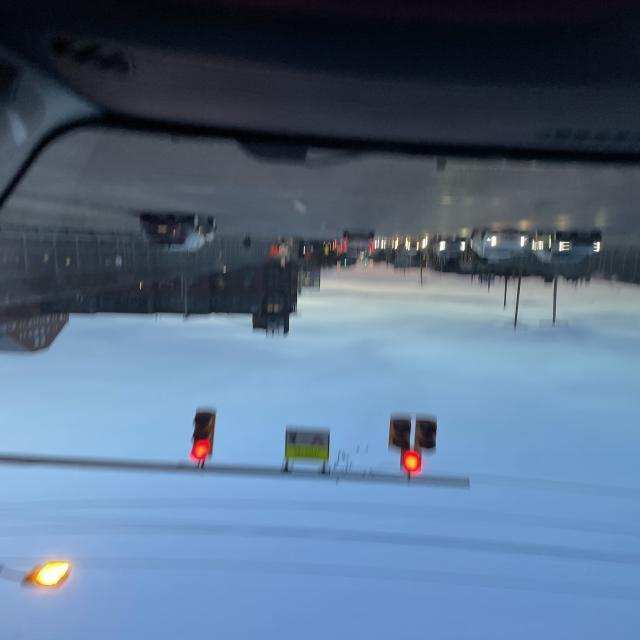red_light: (388, 418, 446, 470), (180, 407, 225, 465)
